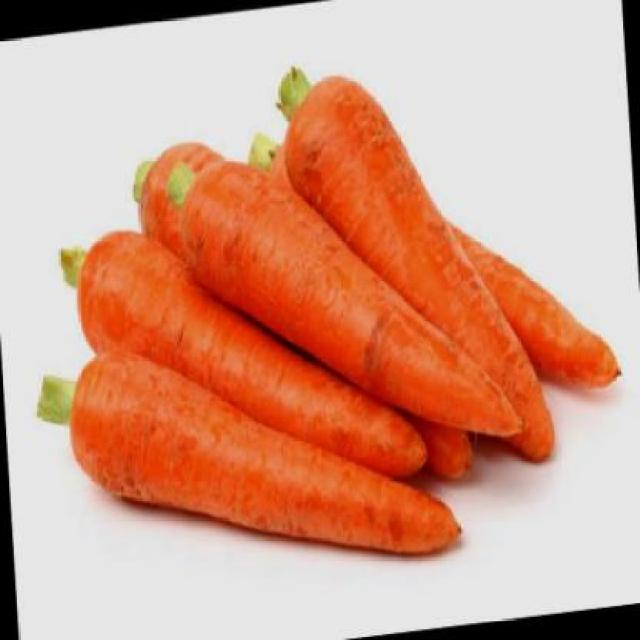carrot: (174, 122, 529, 476), (278, 49, 556, 492), (65, 306, 463, 597), (71, 192, 427, 517), (440, 193, 623, 410), (132, 134, 235, 272), (403, 405, 474, 483)
